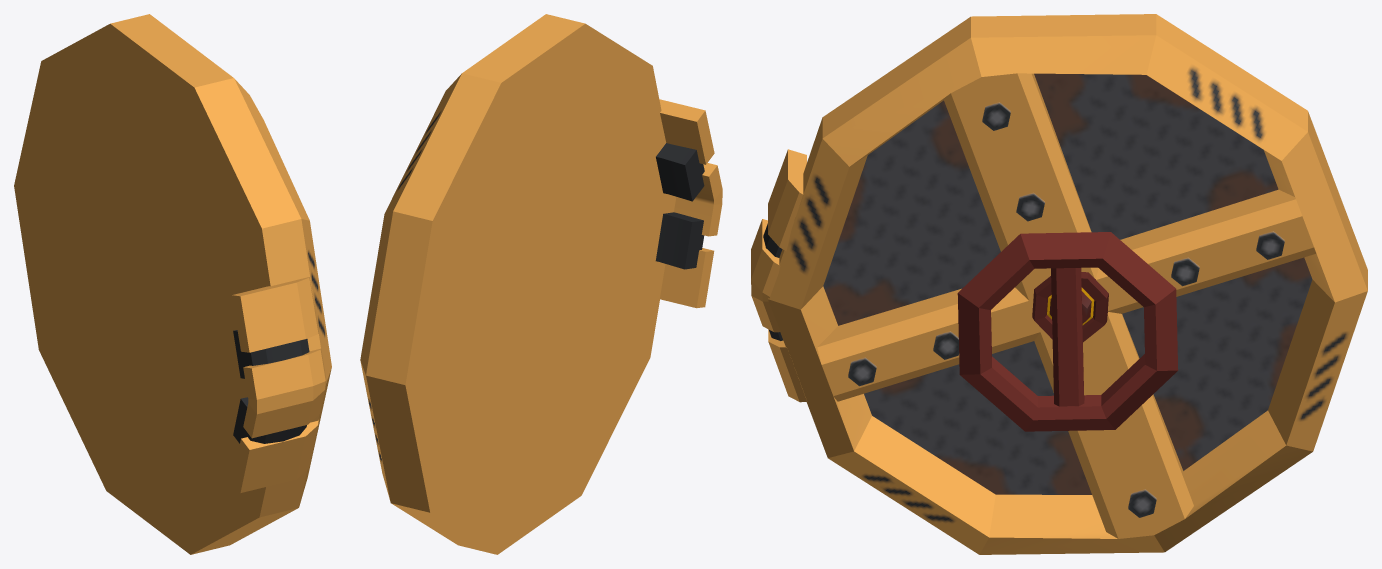
Rendered from SM_Bld_Pipe_Large_Hatch_01.fbx.
3 views of the same model, side by side, from view 1: azimuth 30°, elevation 25°; view 2: azimuth 150°, elevation 25°; view 3: azimuth 270°, elevation 25° (orthographic). The views are drawn at different scales.
Parts seen in each view (by area): view 1: SM_Bld_Pipe_Large_Hatch_01; view 2: SM_Bld_Pipe_Large_Hatch_01; view 3: SM_Bld_Pipe_Large_Hatch_01, SM_Bld_Pipe_Hatch_Valve.
Part boxes in pixels (x1,y1,x2,y2): SM_Bld_Pipe_Large_Hatch_01: (14,14,331,554); SM_Bld_Pipe_Large_Hatch_01: (360,14,722,554); SM_Bld_Pipe_Large_Hatch_01: (751,14,1367,554); SM_Bld_Pipe_Hatch_Valve: (957,232,1178,431).
Size of the model in its own units: 36.41 by 103 by 111.
